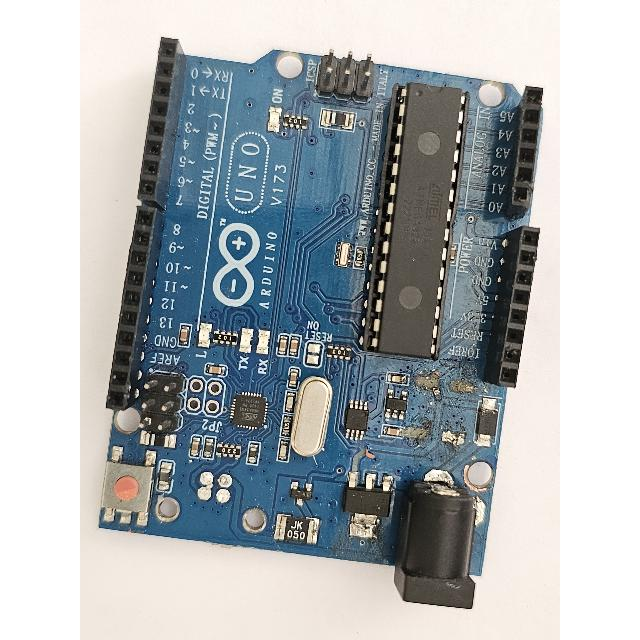missing_capacitors: (399, 365, 485, 455)
missing_usb: (166, 452, 276, 541)
